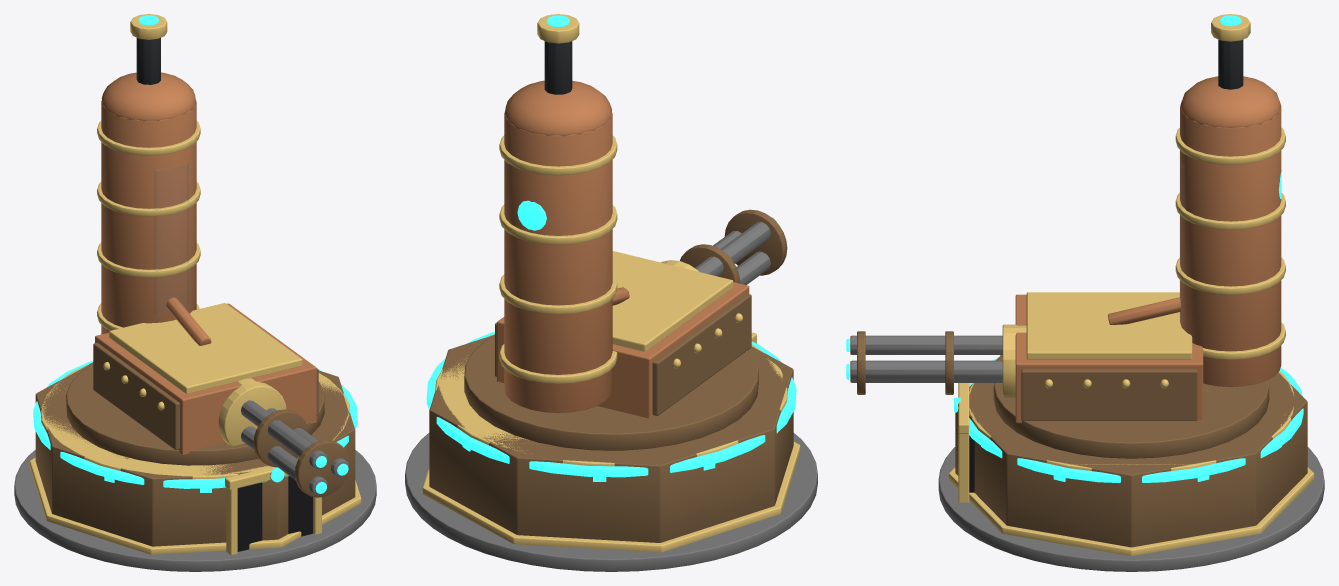
Rendered from Machinegoon_T1_Pepperbox.glb.
3 renders of one model, left to right at view 1: azimuth 30°, elevation 25°; view 2: azimuth 150°, elevation 25°; view 3: azimuth 270°, elevation 25°, orthographic. The views are drawn at different scales.
Parts seen in each view (by area): view 1: Machinegoon_T1_Pepperbox_Turret, Machinegoon_T1_Pepperbox_Base; view 2: Machinegoon_T1_Pepperbox_Turret, Machinegoon_T1_Pepperbox_Base; view 3: Machinegoon_T1_Pepperbox_Turret, Machinegoon_T1_Pepperbox_Base.
Boxes of the visible parts, x1,y1,x2,y2 form: Machinegoon_T1_Pepperbox_Turret: (66, 14, 349, 497); Machinegoon_T1_Pepperbox_Base: (14, 361, 376, 571); Machinegoon_T1_Pepperbox_Turret: (464, 14, 787, 450); Machinegoon_T1_Pepperbox_Base: (405, 331, 817, 571); Machinegoon_T1_Pepperbox_Turret: (846, 14, 1285, 458); Machinegoon_T1_Pepperbox_Base: (938, 355, 1324, 571).
Bounding box in the file's own units: 3.5 × 4.72 × 4.34.
